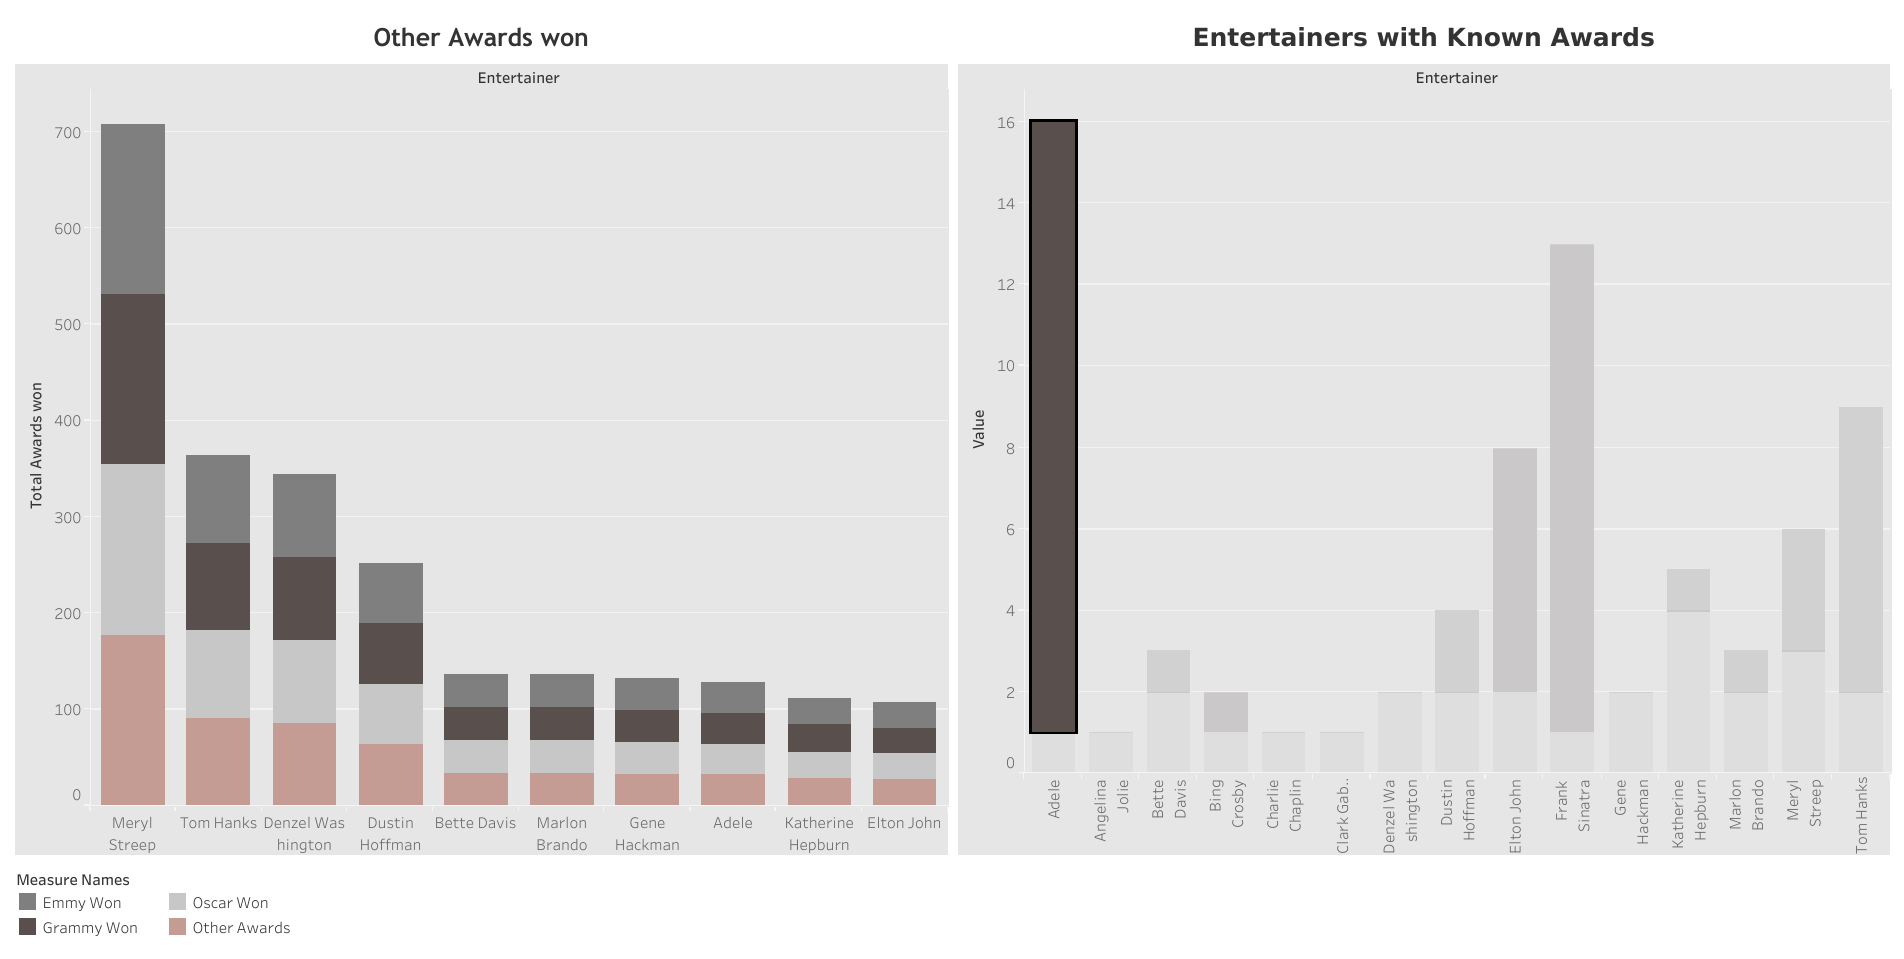

Layout of this report page (visuals, bound fields, positions):
{"tool":"tableau","page":{"name":"Dashboard 3","canvas":[1524,768],"ordinal":2},"visuals":[{"type":"worksheet","title":"Other Awards won","mark":"Automatic","rows":["Total Awards won"],"cols":["Entertainer"],"box":[8,8,754,680.2]},{"type":"worksheet","title":"Entertainers with Known Awards","mark":"Automatic","cols":["Entertainer"],"box":[762,8,754,680.2]},{"type":"legend","title":"Other Awards won","param":"[federated.1c0q6ed10wwgzy16u1l2m0x3vn1v].[:Measure Names]","box":[8,688.2,1508,71.8]}]}

Visuals, with their boxes in screenshot pixels (x1, y1, x2, y2), scaled from the page's 1524x768 canvas onto the 1904x959 screenshot:
"Other Awards won" worksheet: [10, 10, 952, 859]
"Entertainers with Known Awards" worksheet: [952, 10, 1894, 859]
"Other Awards won" legend: [10, 859, 1894, 949]
